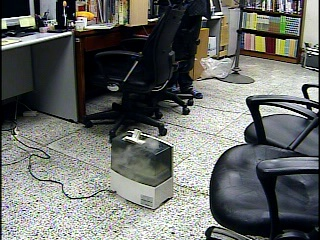smoke: (111, 133, 163, 181)
